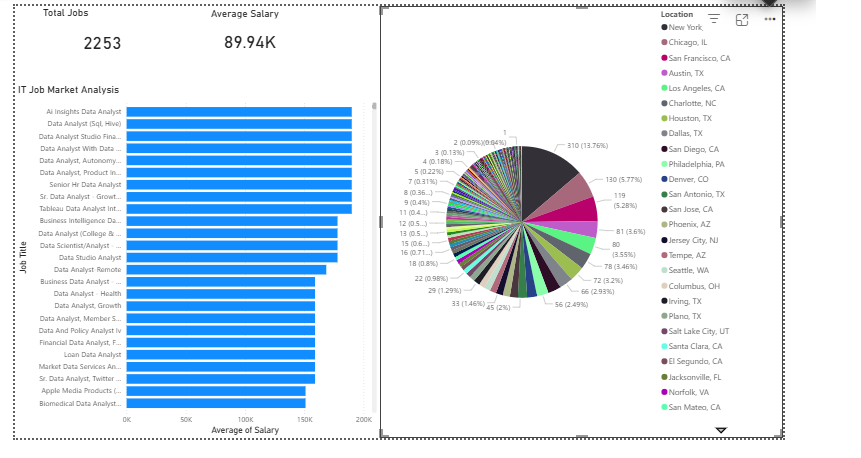

The dashboard page shown, as its layout file describes it:
{"tool":"powerbi","page":{"name":"Page 1","canvas":[1280,720],"ordinal":0},"visuals":[{"type":"barChart","title":"IT Job Market Analysis","fields":{"Category":["cleaned_jobs.Job Title"],"Y":["Avg(cleaned_jobs.max)"]},"box":[0,128,608,592],"z":0},{"type":"pieChart","fields":{"Category":["cleaned_jobs.Location"],"Y":["CountNonNull(cleaned_jobs.Location)"]},"box":[608,0,672,720],"z":1000},{"type":"card","title":"Average Salary","fields":{"Values":["Avg(cleaned_jobs.max)"]},"box":[322,2,140,94],"z":2000},{"type":"card","title":"Total Jobs","fields":{"Values":["CountNonNull(cleaned_jobs.Job Title)"]},"box":[42,0,208,100],"z":4000}]}

Visuals, with their boxes in screenshot pixels (x1, y1, x2, y2):
"IT Job Market Analysis" barChart: {"x1": 9, "y1": 80, "x2": 376, "y2": 437}
pieChart - cleaned_jobs.Location x CountNonNull(cleaned_jobs.Location): {"x1": 376, "y1": 2, "x2": 782, "y2": 437}
"Average Salary" card: {"x1": 204, "y1": 3, "x2": 288, "y2": 60}
"Total Jobs" card: {"x1": 34, "y1": 2, "x2": 160, "y2": 63}
